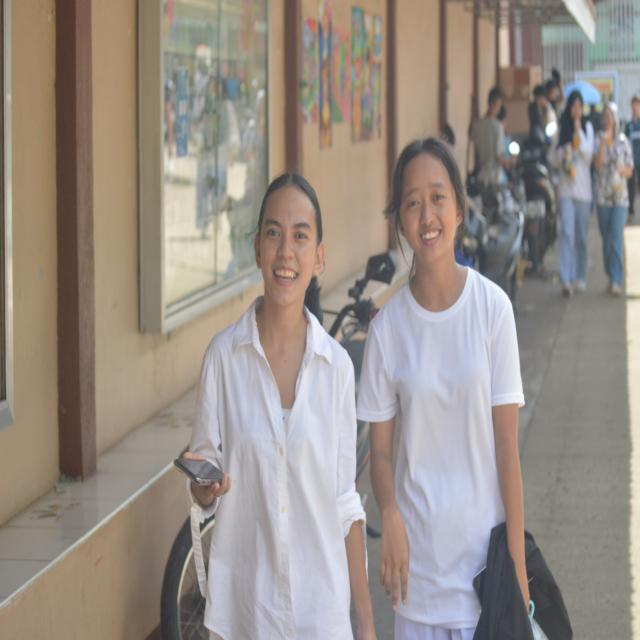person: (185, 174, 375, 639), (358, 139, 528, 639), (550, 91, 594, 296), (594, 103, 634, 295), (471, 88, 512, 187), (625, 94, 639, 216)
